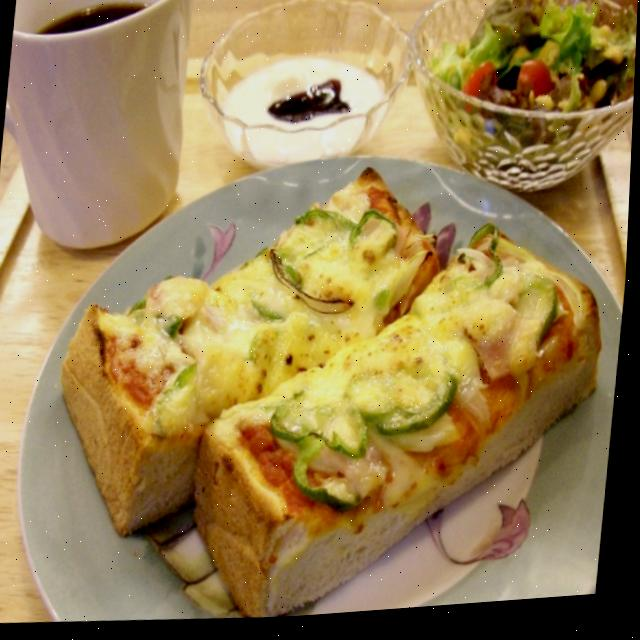面包点心: (25, 157, 633, 637)
